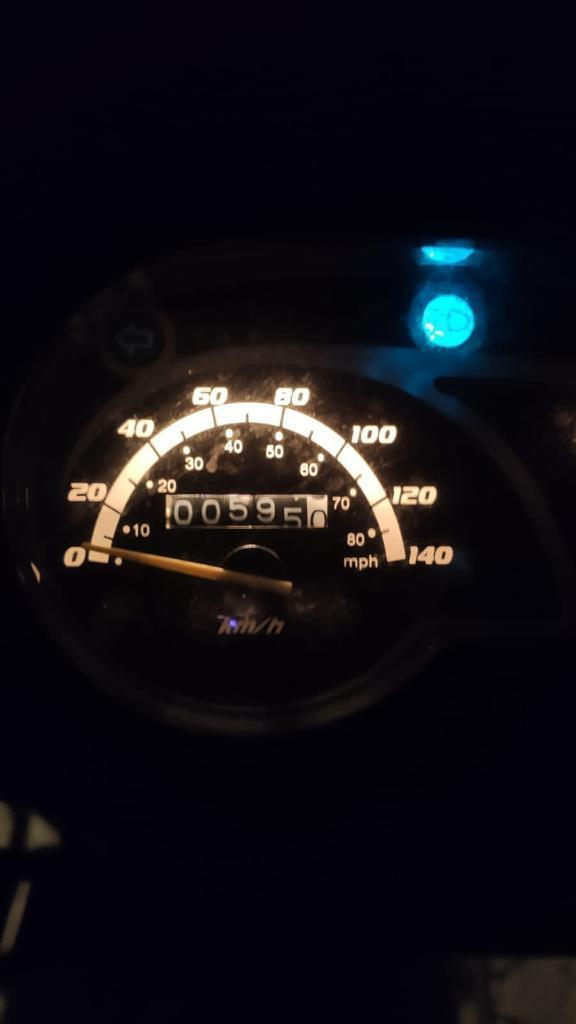0: (200, 498, 220, 524), (173, 499, 193, 525), (310, 509, 326, 530)
5: (228, 498, 248, 521), (283, 507, 302, 530)
9: (255, 497, 275, 522)
odometer: (163, 491, 331, 531)
